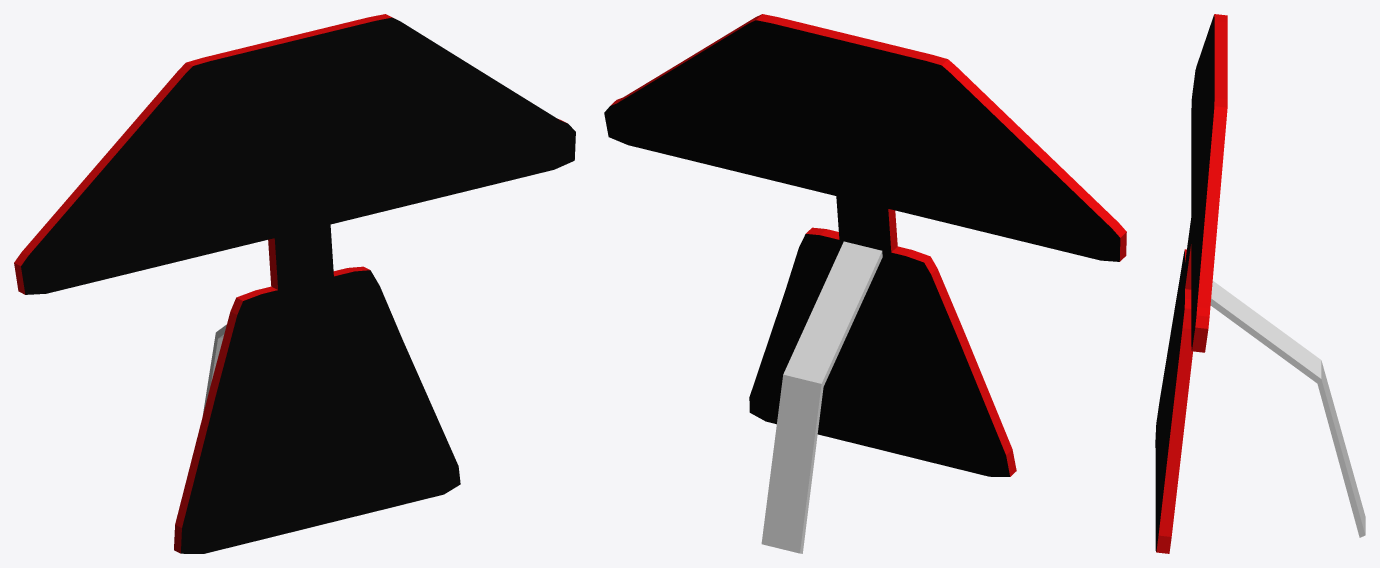
The model's file is boring table cardboard.fbx.
The picture shows the model from 3 angles, left to right: view 1: azimuth 30°, elevation 25°; view 2: azimuth 150°, elevation 25°; view 3: azimuth 270°, elevation 25°; orthographic projection. The views are drawn at different scales.
Visible parts, largest first — view 1: path1; view 2: path1, Plane; view 3: path1, Plane.
Boxes of the visible parts, x1=… form: path1: x1=14, y1=14, x2=575, y2=553; path1: x1=604, y1=14, x2=1126, y2=476; Plane: x1=761, y1=241, x2=882, y2=553; path1: x1=1155, y1=14, x2=1227, y2=553; Plane: x1=1210, y1=281, x2=1365, y2=537.
Size of the model in its own units: 2689 by 2295 by 932.
